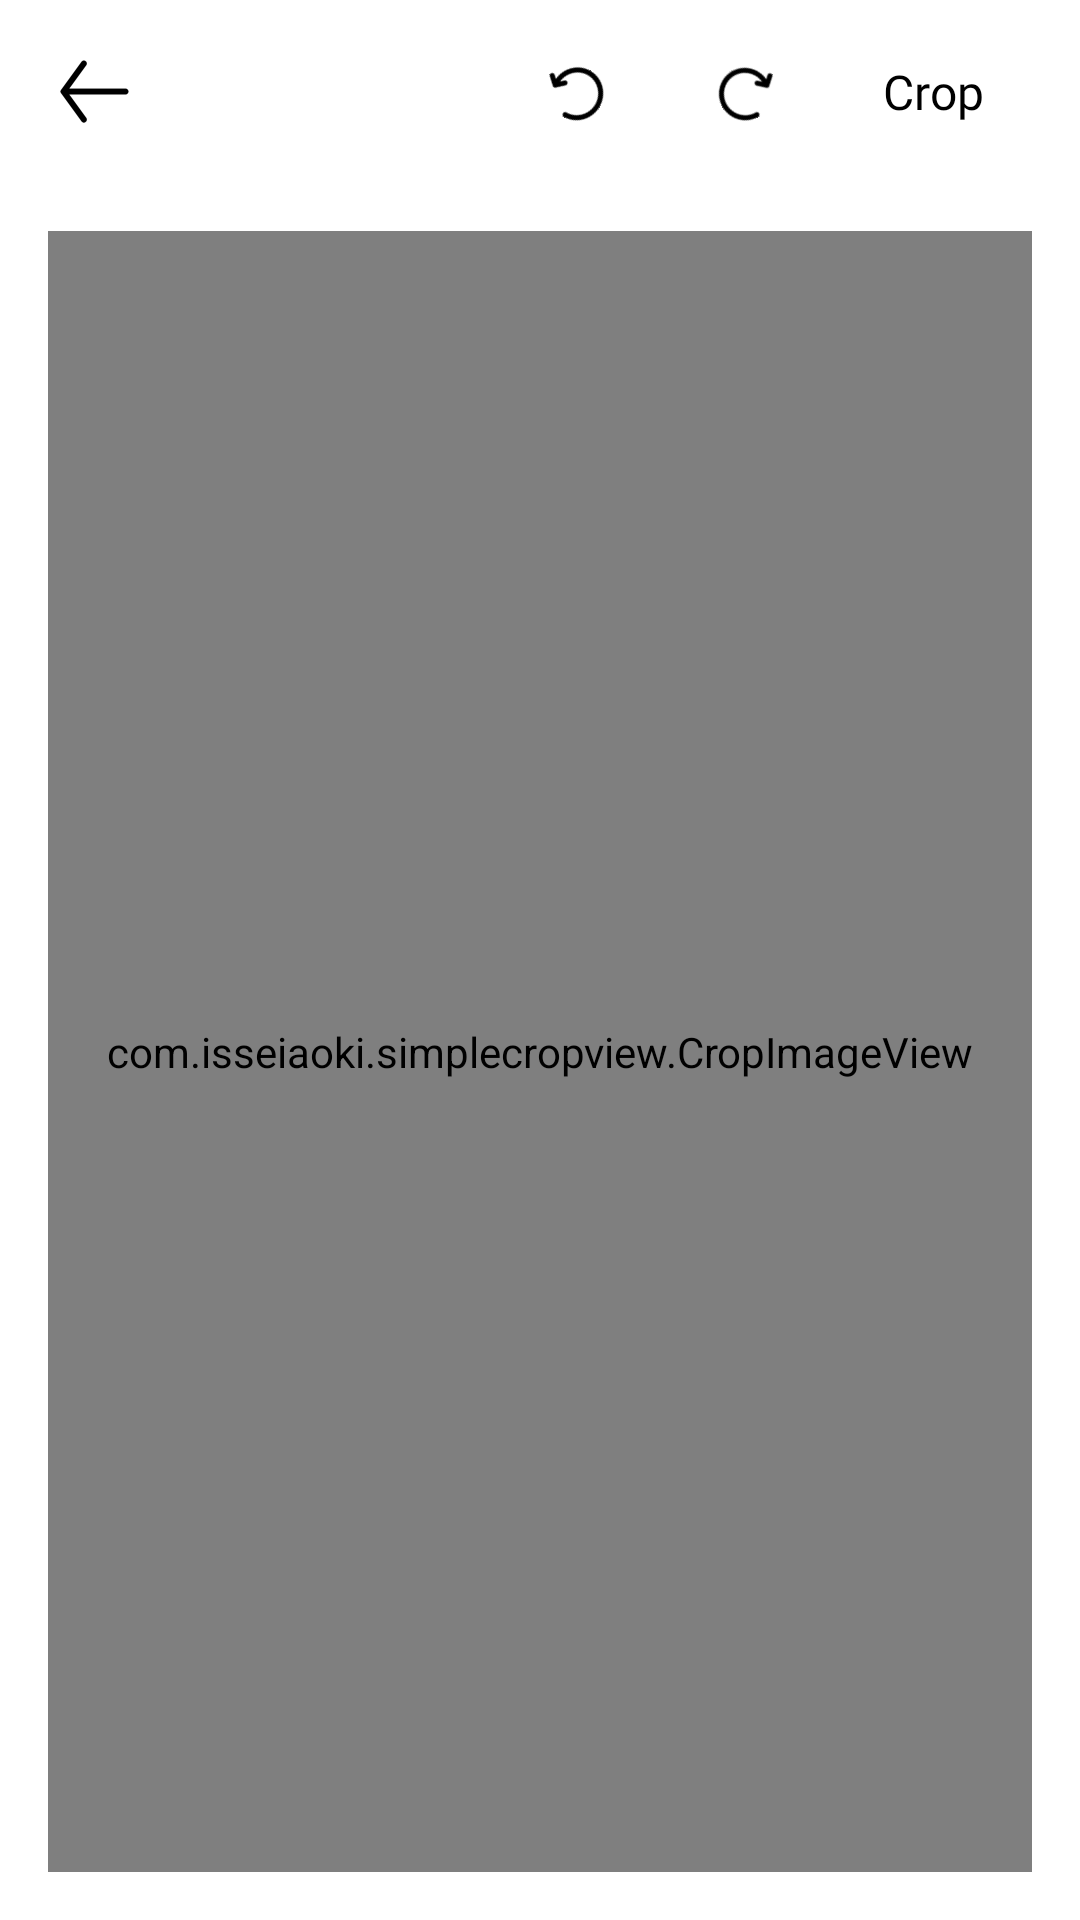

Where to tap for icons on this 1080x1920 app screen, as (x=x, y=y):
back: (x=94, y=91)
